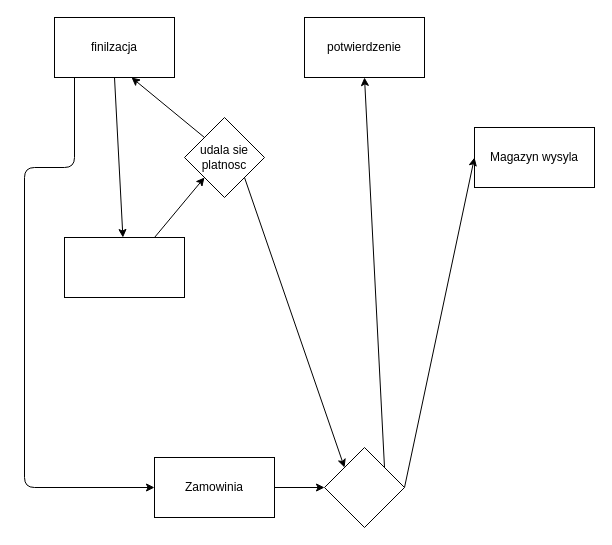
This 612x545 diagram has some shape labels left out. The centre of each missing label's shape, as x and y in pixels:
"czekamy na platnosc" goes at pixel 364 487.
"platnosc" goes at pixel 124 267.
